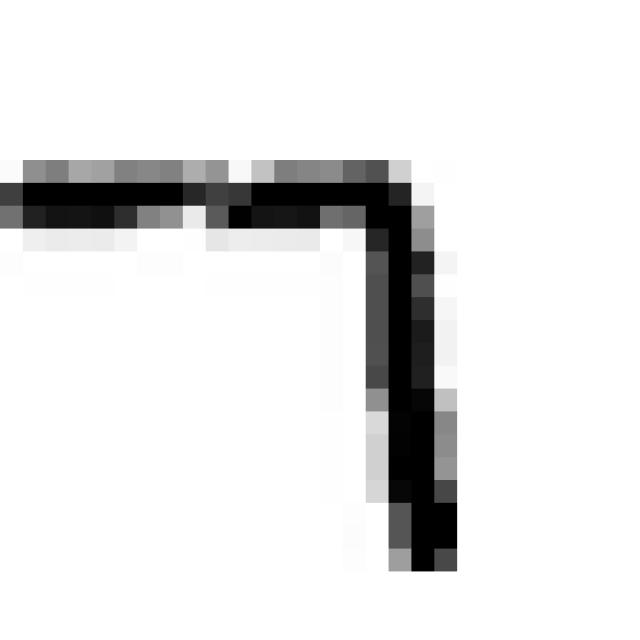6 -six-: (0, 137, 480, 594)
